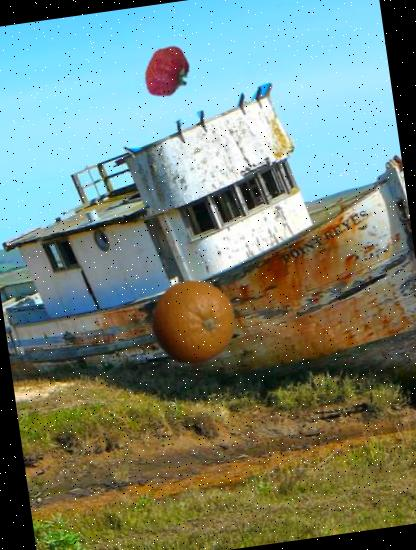Orange: (144, 274, 241, 371)
Strawberry: (137, 41, 199, 103)
